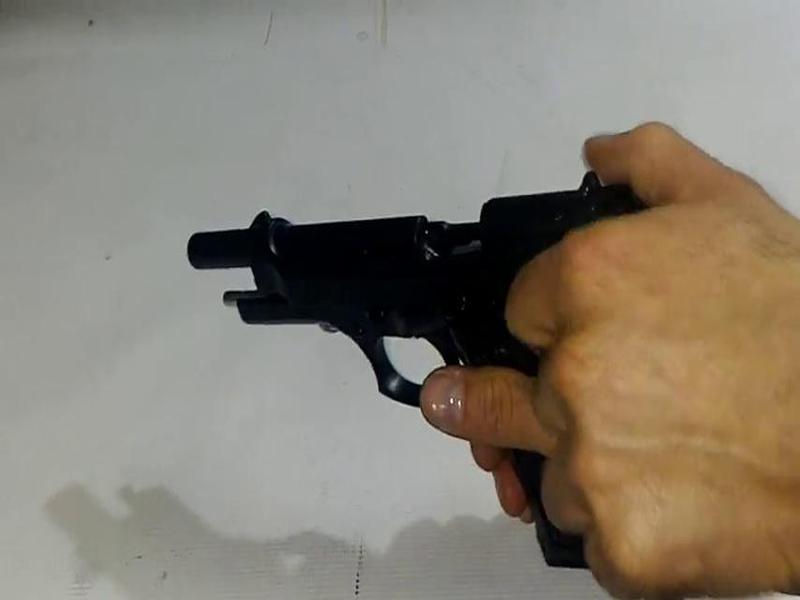Pistola: (170, 185, 672, 556)
